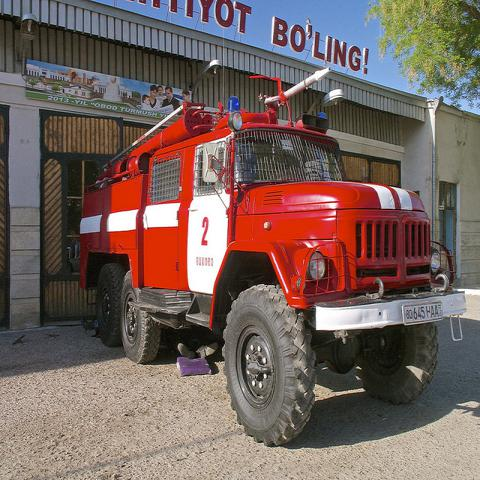truck: (77, 66, 472, 448)
